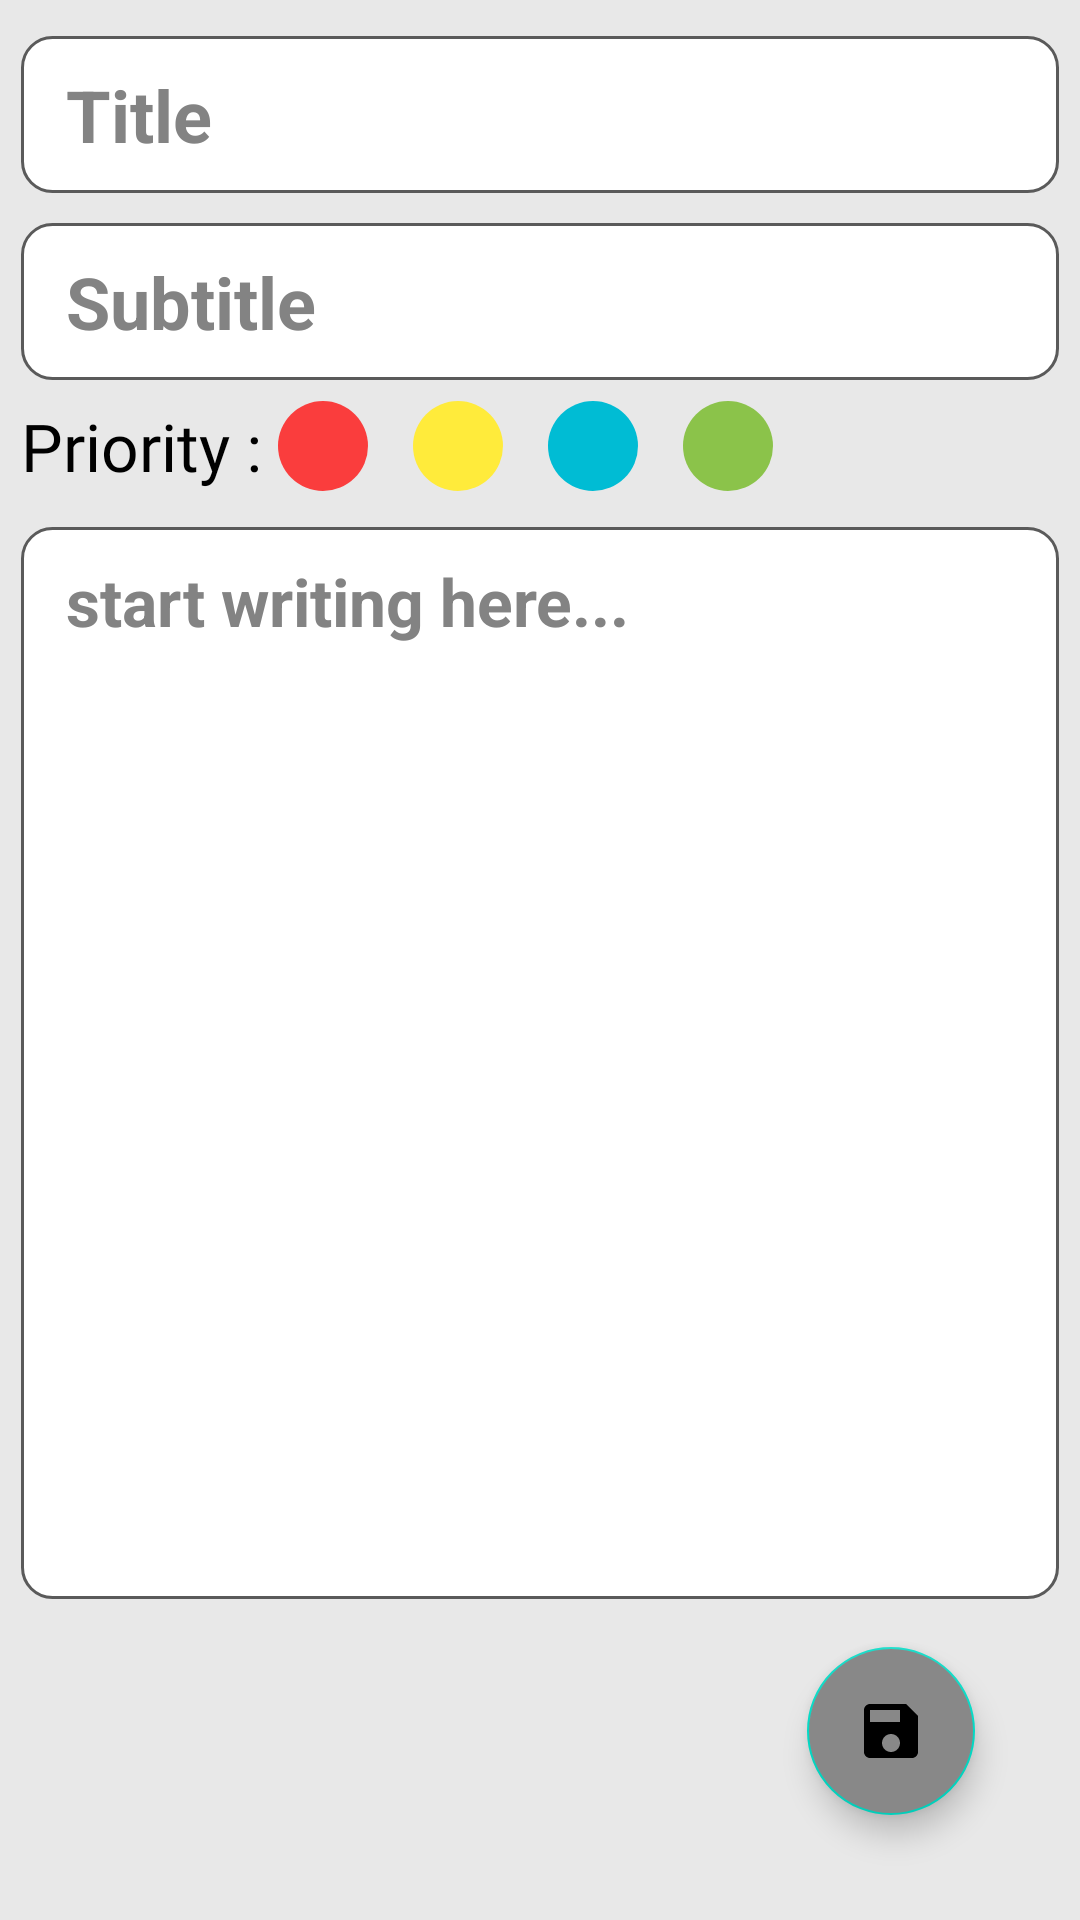

Icon click points for this 1080 × 1920 phone screenshot, format [x,y]:
save: [891,1731]
